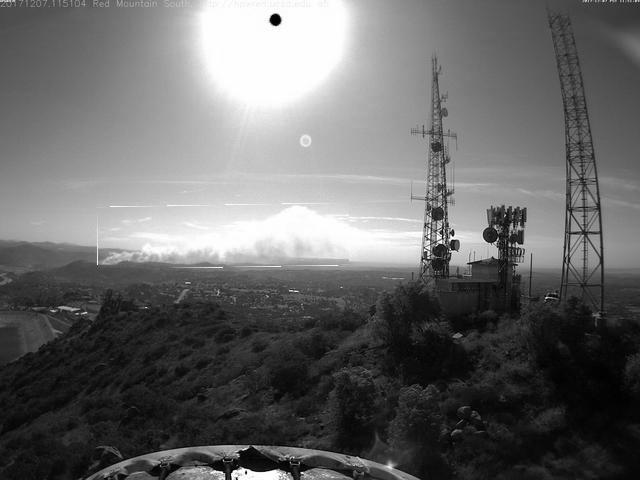smoke: (99, 205, 351, 269)
